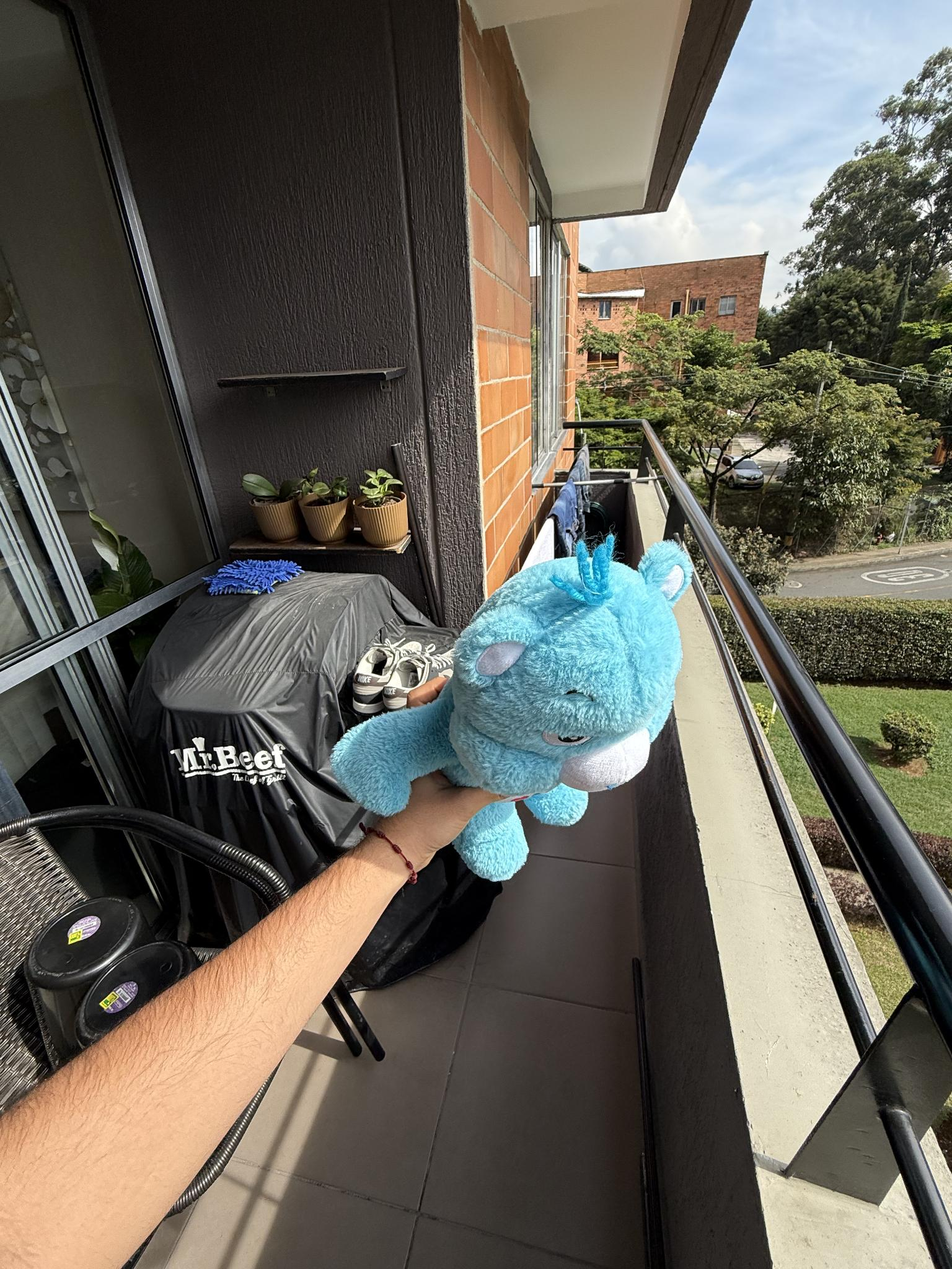peluche_Juan Jose: (463, 559, 694, 886)
